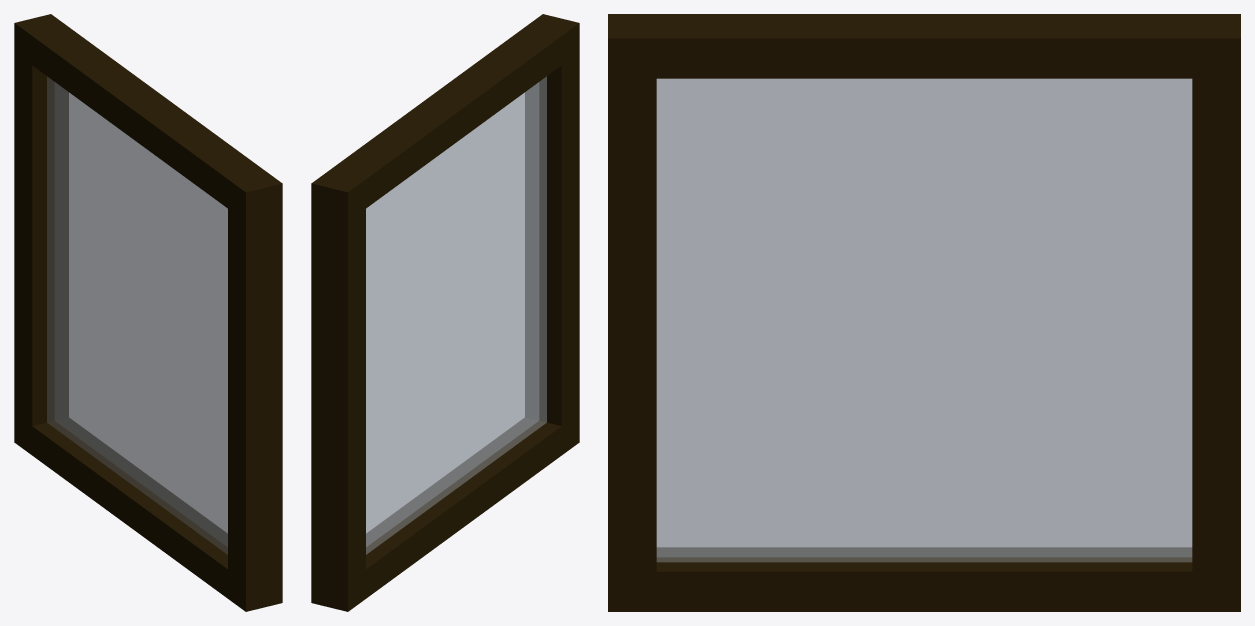
The model's file is 1-General Square Window (Clear) ver1.fbx.
3 renders of one model, left to right at view 1: azimuth 30°, elevation 25°; view 2: azimuth 150°, elevation 25°; view 3: azimuth 270°, elevation 25°, orthographic. The views are drawn at different scales.
Parts seen in each view (by area): view 1: Plane; view 2: Plane; view 3: Plane.
Part boxes in pixels (<box>): Plane: <box>14,14,282,611</box>; Plane: <box>311,14,579,611</box>; Plane: <box>608,14,1240,611</box>.
Bounding box in the file's own units: 71.3 × 780 × 780.
